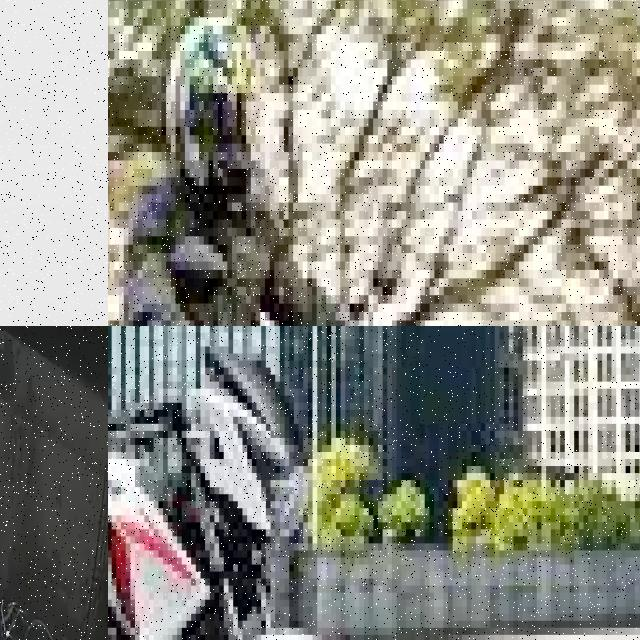bike: (108, 339, 406, 640), (108, 236, 561, 326), (0, 0, 47, 326), (0, 594, 71, 640)
